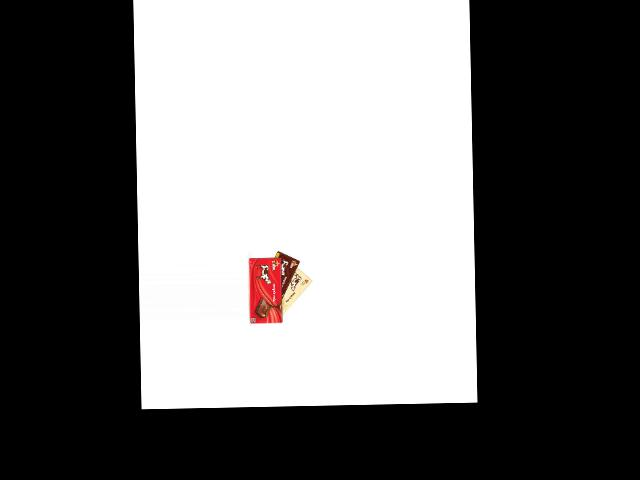chocolate: (275, 259, 313, 321)
